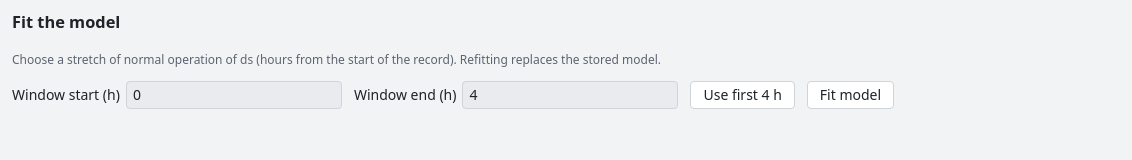
Test case: fit form › defaults to the first half of the record and blocks an invalid window
Replace the text in the field labelled "Window end (h)" with "0" at (570, 95), box left=462, top=81, right=678, bottom=109
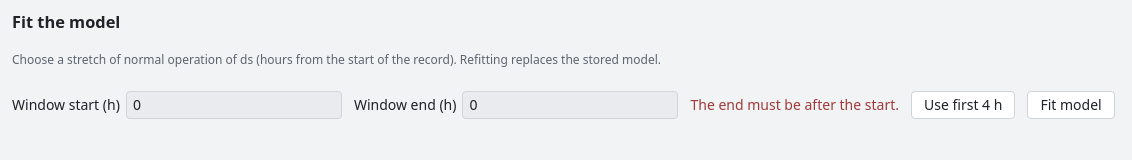
Result: the message reads "The end must be after the start." at left=690, top=95, right=899, bottom=114
Result: the button "Fit model" is disabled at left=1027, top=91, right=1115, bottom=119
